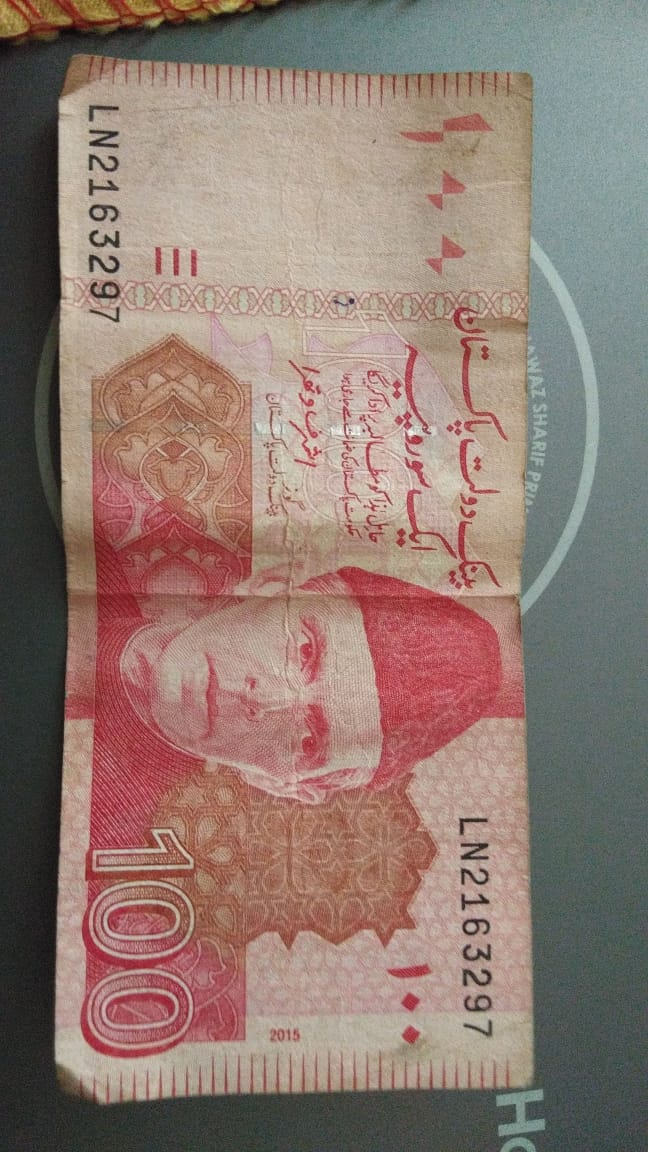100 rupee: (23, 47, 569, 1130)
